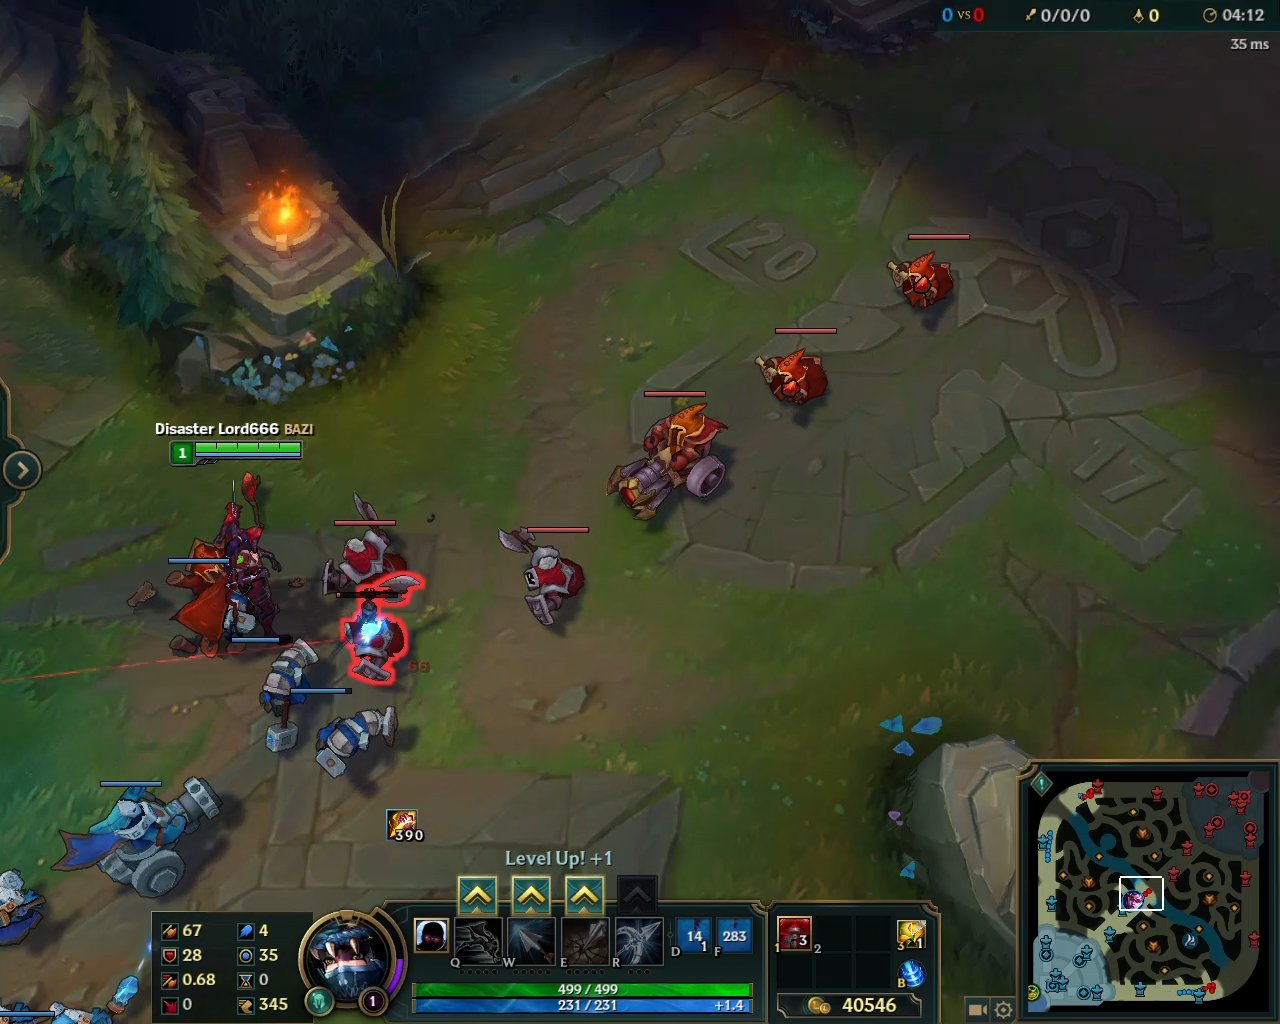EnemyMinion: (600, 388, 726, 530), (321, 571, 430, 685), (496, 523, 592, 633), (321, 491, 400, 608), (753, 327, 836, 418), (886, 233, 969, 318)
Vayne: (168, 475, 271, 664)
